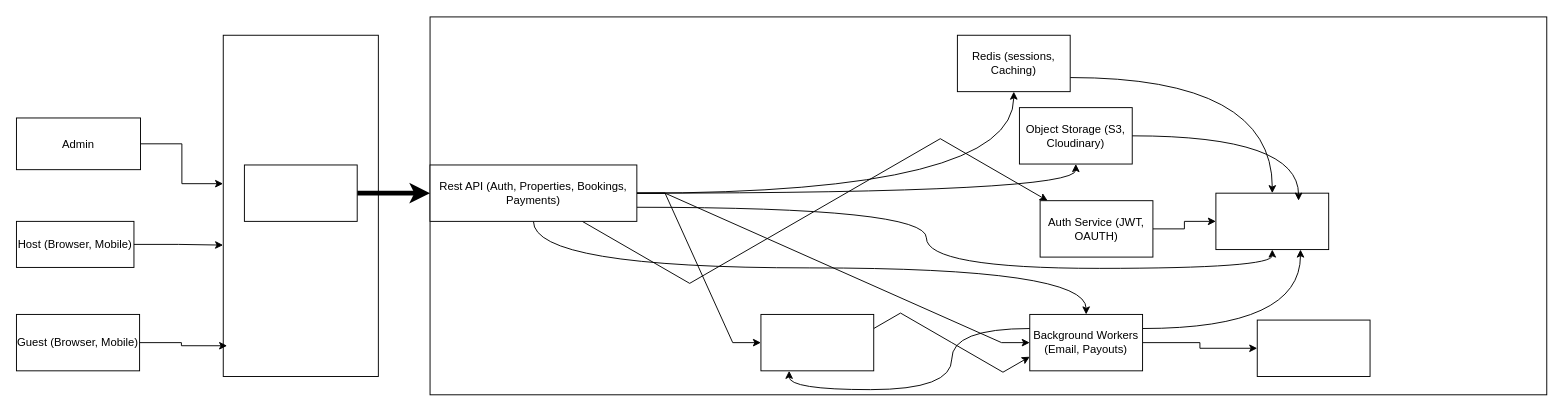
The diagram is 1563 pixels wide and 411 high, and some of its shapes have lost their labels. The shapes that lost their labels are listed below. From the top down, each one's centre as x and y in pixels, then its label:
(300,192): Front-End UI
(1272,221): PostGres SQL db
(817,342): Payment Services Stripe
(1313,347): Email Services SendGrid
